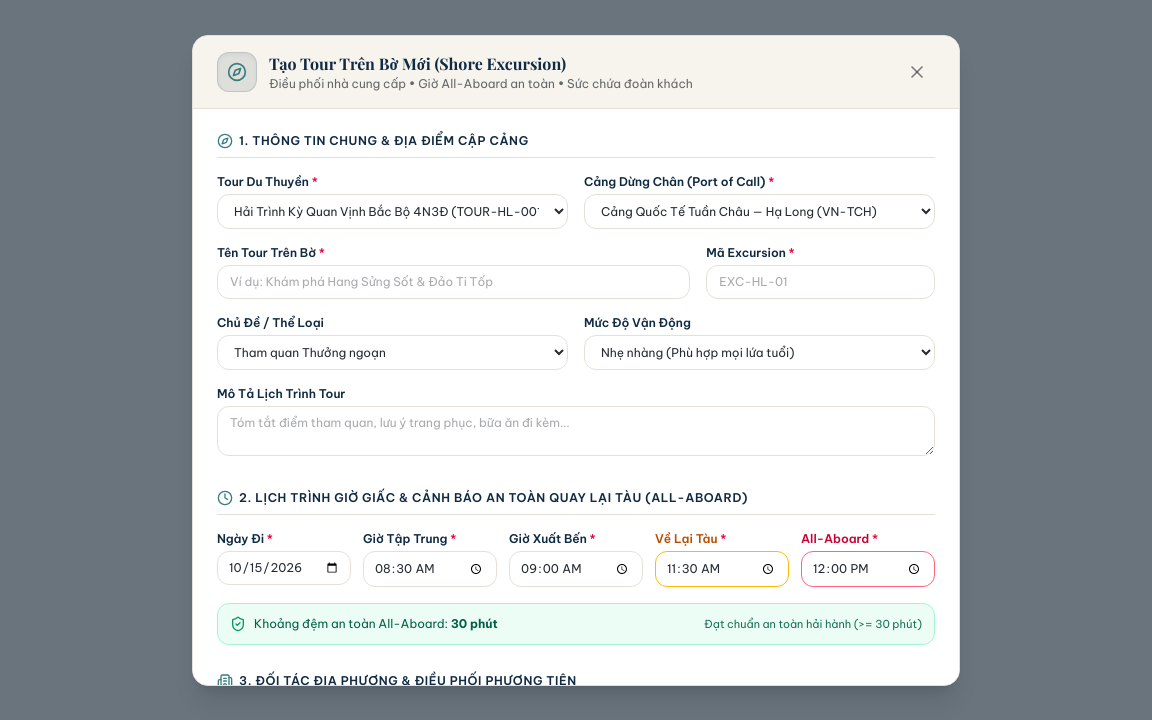
Test case: Excursion Form Validation - Price, Capacity and Schedule (KAN-175) › Interactive Modal Validation & UI Feedback › displays error on invalid code characters (lowercase or spaces) when submitted
Type "exc bad code" into the field labelled "Mã Excursion *". click: (821,282)
box: [706,264,935,298]
(page scrolled)
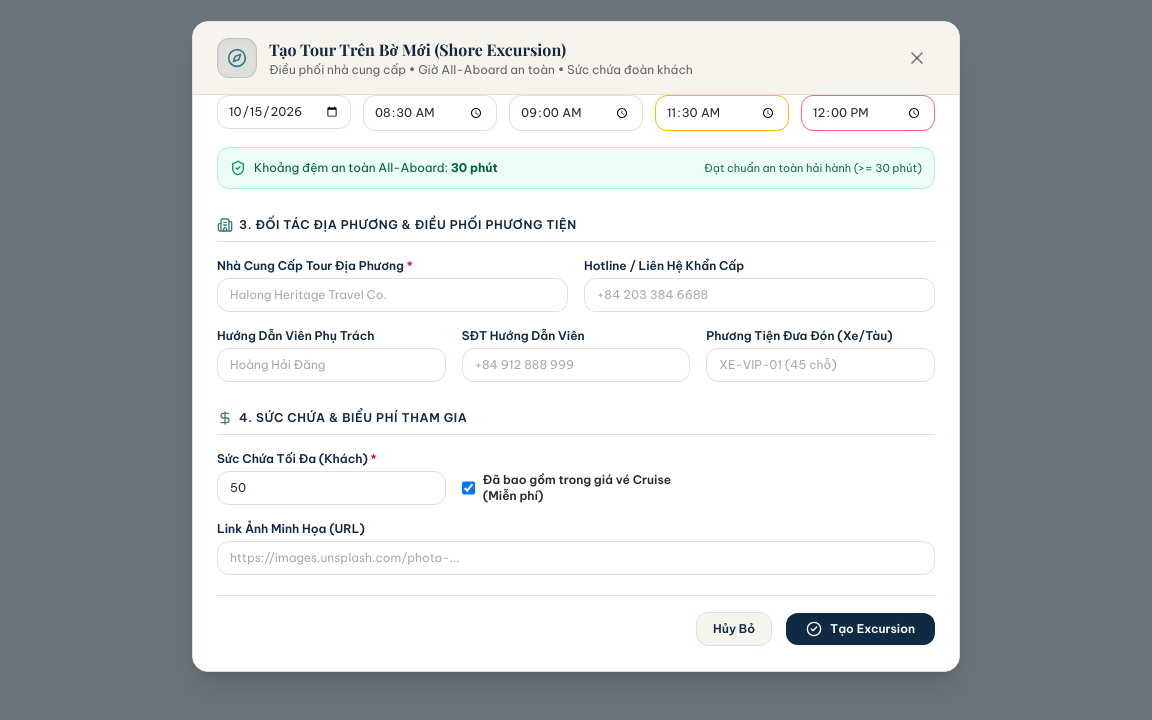
Click the button "Tạo Excursion". click: (861,629)
box: [786,613,935,645]
(page scrolled)
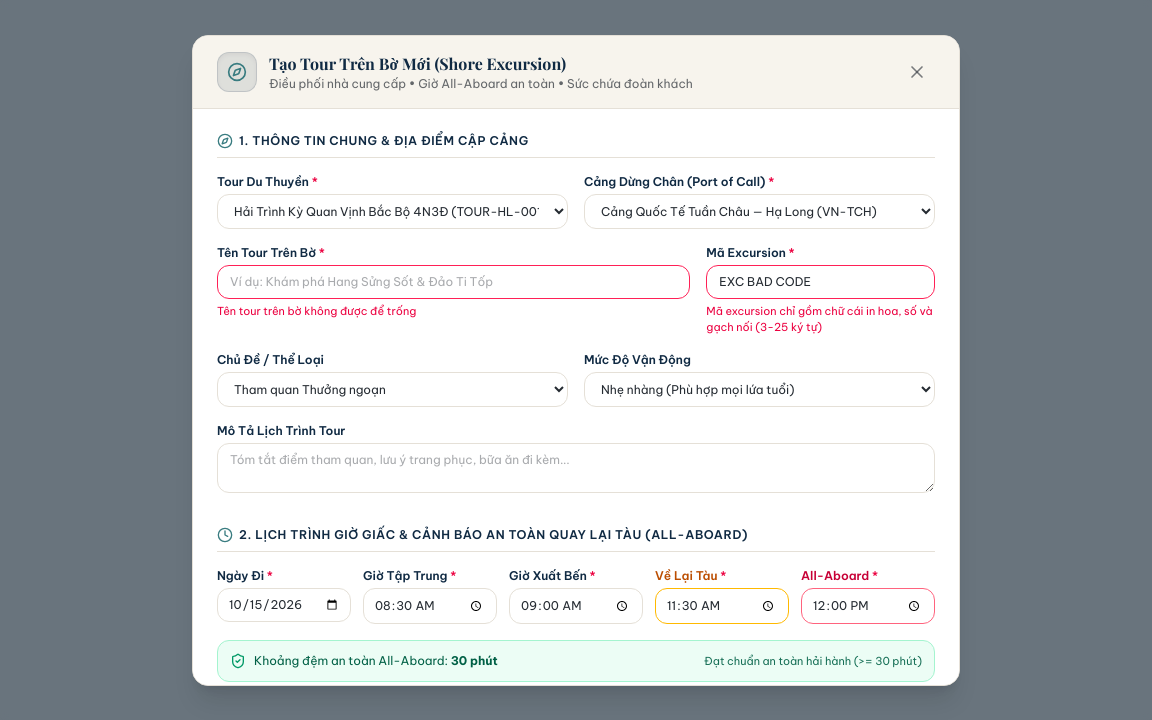
Expected: the text "Mã excursion chỉ gồm chữ cái in hoa, số và gạch nối (3-25 ký tự)" is shown, [706,302,935,336]
